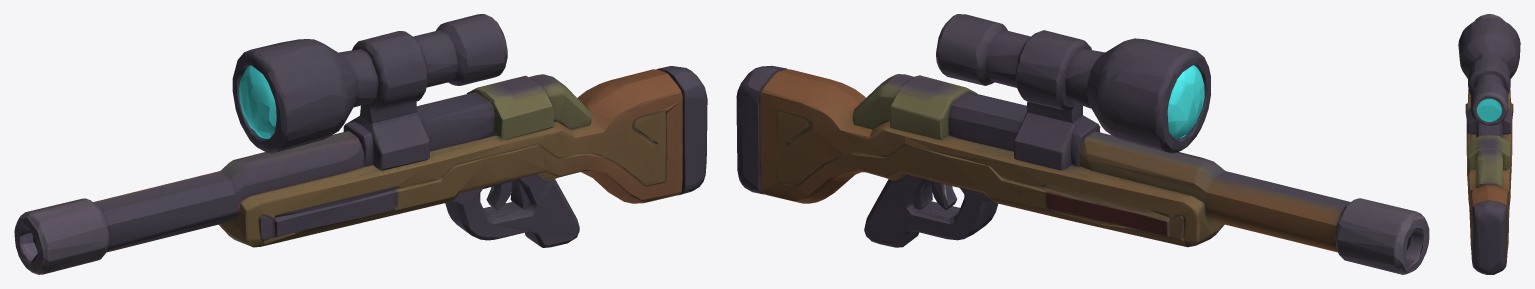
Rendered from lynx_waffe_reduziert.glb.
3 views of the same model, side by side, from view 1: azimuth 30°, elevation 25°; view 2: azimuth 150°, elevation 25°; view 3: azimuth 270°, elevation 25° (orthographic). The views are drawn at different scales.
Visible parts, largest first — view 1: output_unwrapped; view 2: output_unwrapped; view 3: output_unwrapped.
Part boxes in pixels (x1,y1,x2,y2): output_unwrapped: [14, 14, 707, 274]; output_unwrapped: [736, 14, 1429, 274]; output_unwrapped: [1458, 14, 1520, 274].
Bounding box in the file's own units: 1.9 × 0.6964 × 0.264.
1 material, 1 textured.
